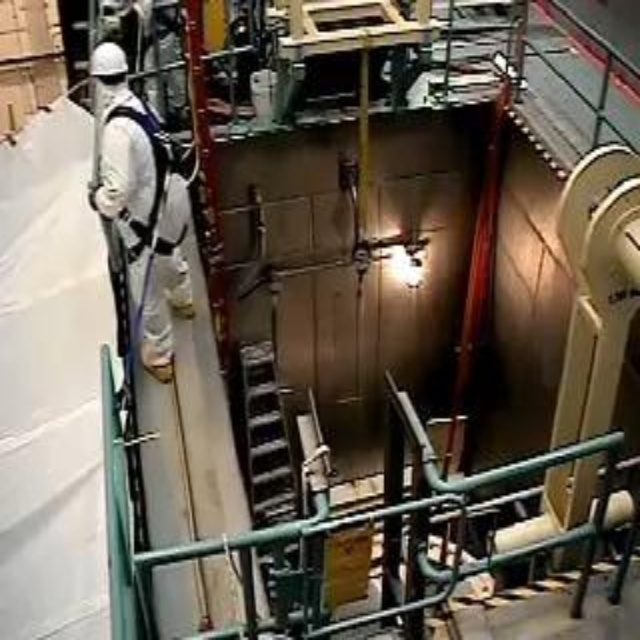Arnes_seguridad: (106, 102, 193, 259)
